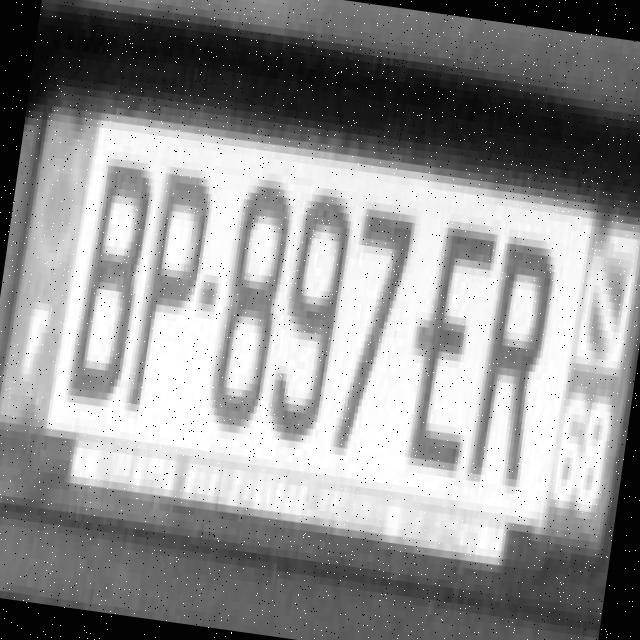EU: (0, 103, 640, 564)
France: (0, 105, 103, 427)
